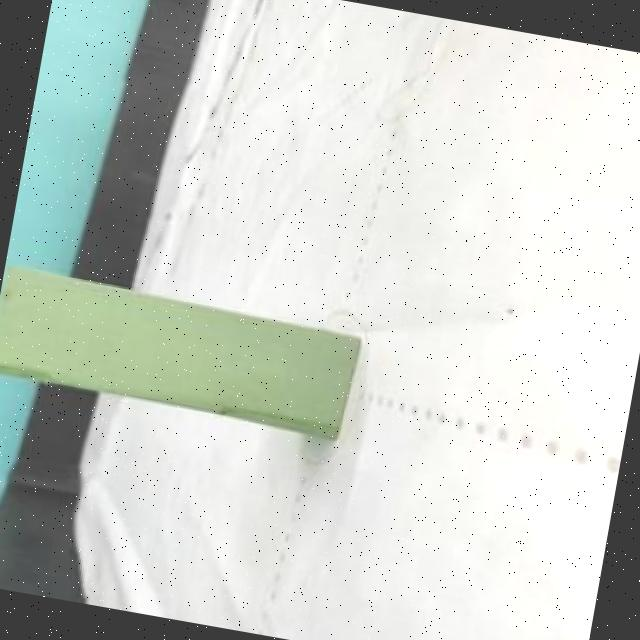greenbox: (0, 263, 366, 442)
